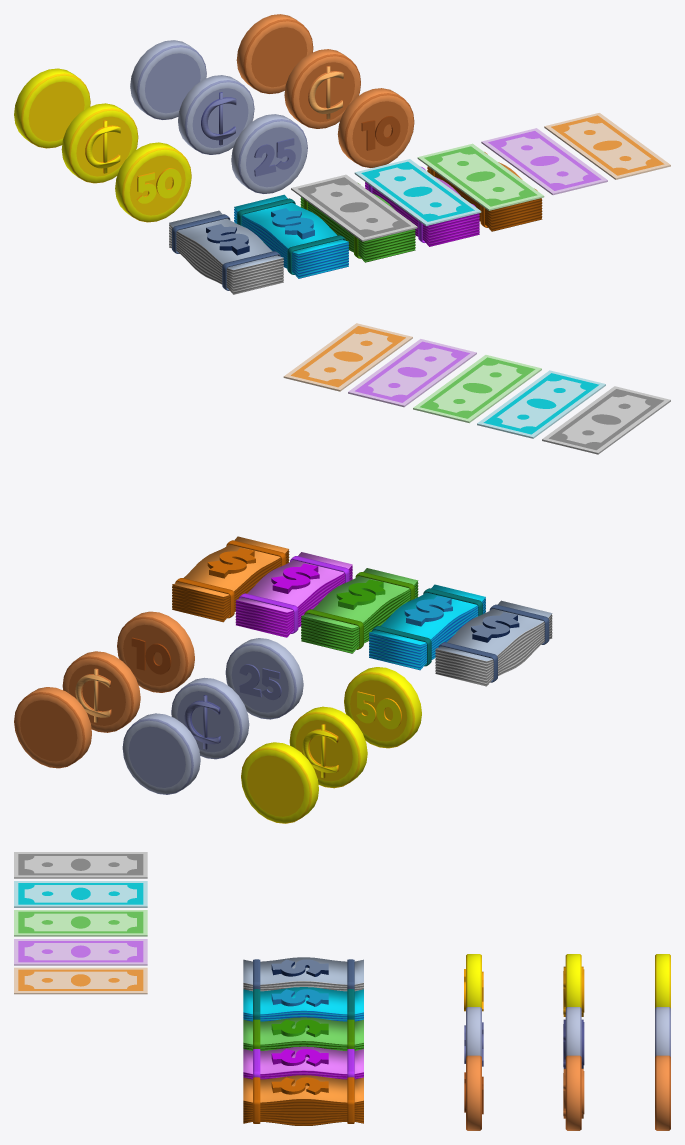
Rendered from cashierrun.moneyset.fbx.
3 renders of one model, top to bottom at view 1: azimuth 30°, elevation 25°; view 2: azimuth 150°, elevation 25°; view 3: azimuth 270°, elevation 25°, orthographic. The views are drawn at different scales.
Visible parts, largest first — view 1: cashierrun_collectible.cash.gray, cashierrun_collectible.cash.blue, cashierrun_collectible.coin.silver, cashierrun_collectible.coin.gold, cashierrun_collectible.coin.bronze, cashierrun_coin.c.silver, cashierrun_coin.c.gold, cashierrun_coin.c.bronze, cashierrun_coin.flat.gold, cashierrun_coin.flat.silver, cashierrun_coin.flat.bronze, cashierrun_banknote_10$ (+7 smaller); view 2: cashierrun_collectible.cash.gray, cashierrun_collectible.cash.green, cashierrun_collectible.cash.blue, cashierrun_collectible.cash.purple, cashierrun_collectible.cash.orange, cashierrun_coin.flat.silver, cashierrun_coin.flat.bronze, cashierrun_coin.flat.gold, cashierrun_collectible.coin.silver, cashierrun_collectible.coin.bronze, cashierrun_collectible.coin.gold, cashierrun_coin.c.bronze (+7 smaller); view 3: cashierrun_collectible.cash.orange, cashierrun_collectible.cash.blue, cashierrun_banknote_100$, cashierrun_collectible.cash.gray, cashierrun_collectible.cash.green, cashierrun_banknote_20$, cashierrun_banknote_50$, cashierrun_banknote_5$, cashierrun_banknote_10$, cashierrun_collectible.cash.purple, cashierrun_coin.c.bronze, cashierrun_collectible.coin.bronze (+7 smaller).
Part boxes in pixels (x1=…): cashierrun_collectible.cash.gray: x1=169, y1=210, x2=283, y2=294; cashierrun_collectible.cash.blue: x1=234, y1=194, x2=348, y2=278; cashierrun_collectible.coin.silver: x1=231, y1=114, x2=307, y2=193; cashierrun_collectible.coin.gold: x1=115, y1=142, x2=191, y2=222; cashierrun_collectible.coin.bronze: x1=337, y1=88, x2=414, y2=167; cashierrun_coin.c.silver: x1=178, y1=75, x2=254, y2=154; cashierrun_coin.c.gold: x1=61, y1=103, x2=138, y2=183; cashierrun_coin.c.bronze: x1=284, y1=49, x2=360, y2=128; cashierrun_coin.flat.gold: x1=14, y1=68, x2=90, y2=148; cashierrun_coin.flat.silver: x1=130, y1=40, x2=206, y2=119; cashierrun_coin.flat.bronze: x1=236, y1=14, x2=313, y2=93; cashierrun_banknote_10$: x1=354, y1=159, x2=481, y2=225; cashierrun_collectible.cash.gray: x1=435, y1=600, x2=552, y2=686; cashierrun_collectible.cash.green: x1=301, y1=568, x2=418, y2=653; cashierrun_collectible.cash.blue: x1=369, y1=584, x2=485, y2=670; cashierrun_collectible.cash.purple: x1=235, y1=552, x2=352, y2=637; cashierrun_collectible.cash.orange: x1=172, y1=536, x2=289, y2=622; cashierrun_coin.flat.silver: x1=122, y1=713, x2=200, y2=794; cashierrun_coin.flat.bronze: x1=14, y1=687, x2=91, y2=768; cashierrun_coin.flat.gold: x1=241, y1=742, x2=318, y2=823; cashierrun_collectible.coin.silver: x1=225, y1=638, x2=303, y2=719; cashierrun_collectible.coin.bronze: x1=117, y1=611, x2=194, y2=692; cashierrun_collectible.coin.gold: x1=344, y1=667, x2=421, y2=748; cashierrun_coin.c.bronze: x1=62, y1=651, x2=140, y2=732; cashierrun_collectible.cash.orange: x1=243, y1=1075, x2=363, y2=1125; cashierrun_collectible.cash.blue: x1=243, y1=987, x2=363, y2=1021; cashierrun_banknote_100$: x1=14, y1=967, x2=147, y2=994; cashierrun_collectible.cash.gray: x1=243, y1=957, x2=363, y2=991; cashierrun_collectible.cash.green: x1=243, y1=1017, x2=363, y2=1050; cashierrun_banknote_20$: x1=14, y1=910, x2=147, y2=936; cashierrun_banknote_50$: x1=14, y1=939, x2=147, y2=965; cashierrun_banknote_5$: x1=14, y1=852, x2=147, y2=878; cashierrun_banknote_10$: x1=14, y1=881, x2=147, y2=907; cashierrun_collectible.cash.purple: x1=243, y1=1046, x2=363, y2=1079; cashierrun_coin.c.bronze: x1=563, y1=1055, x2=584, y2=1130; cashierrun_collectible.coin.bronze: x1=464, y1=1055, x2=483, y2=1130.
Size of the model in its own units: 3.28 by 1.65 by 6.28.
